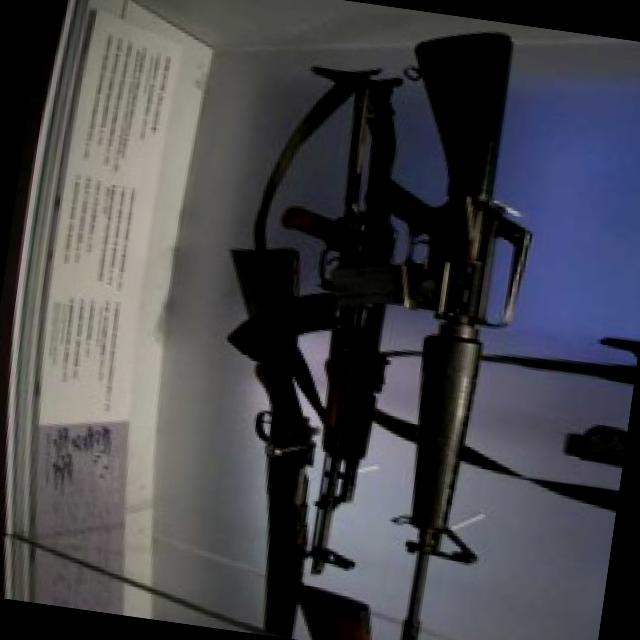long weapon: (326, 16, 571, 639), (258, 58, 442, 581), (175, 190, 366, 638)
